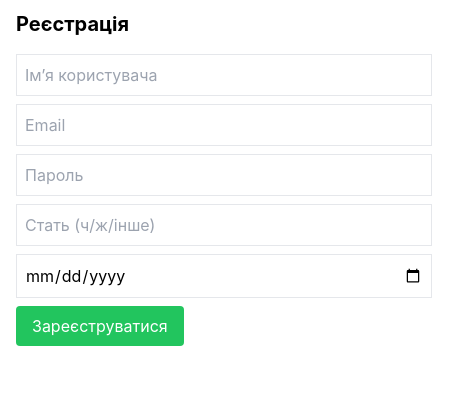
Register component › shows error on registration failure
The image size is (449, 393).
Type "user" into the field with placeholder "Ім’я користувача" at {"x": 224, "y": 75}, box [16, 54, 432, 96]
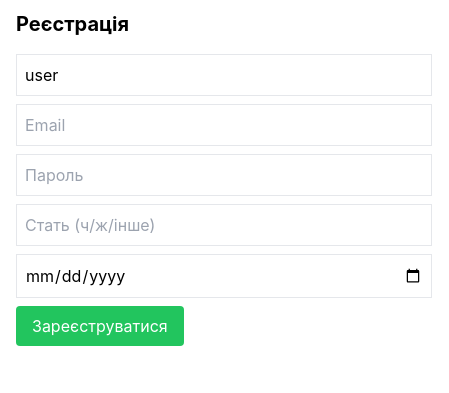
Click the button "Зареєструватися" at {"x": 100, "y": 326}, box [16, 306, 184, 346]
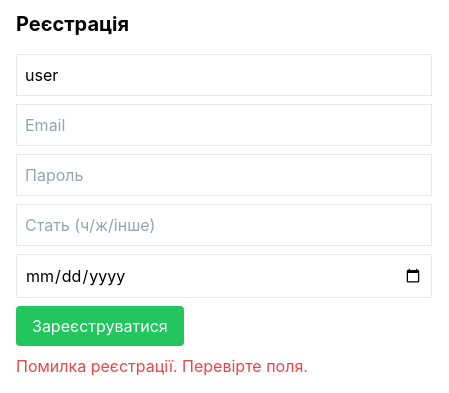
Expected: the text "Помилка реєстрації. Перевірте поля." is shown, [16, 356, 308, 376]
